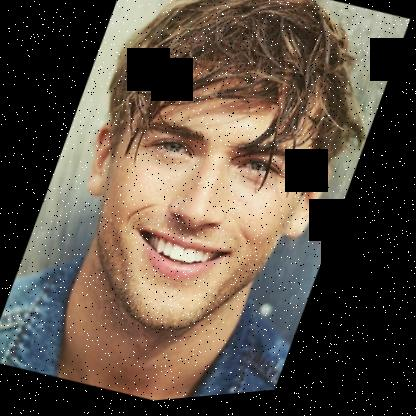Male: (38, 38, 360, 376)
